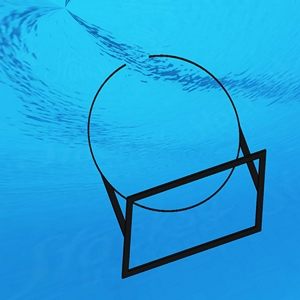circle: (86, 52, 271, 281)
